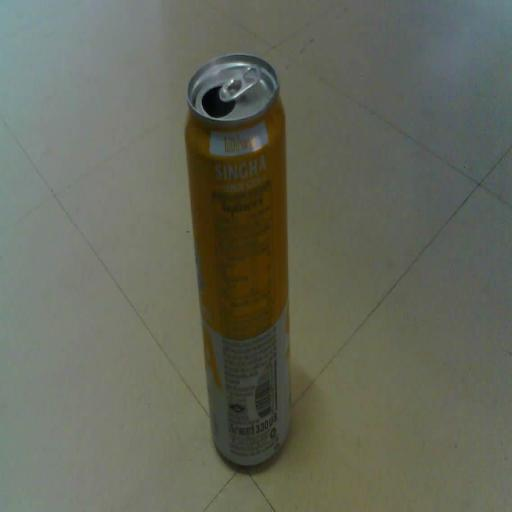canned: (174, 36, 305, 484)
